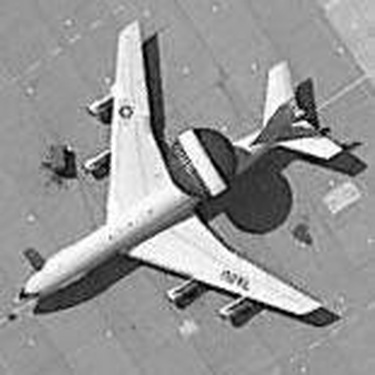airplane: (8, 17, 356, 344)
